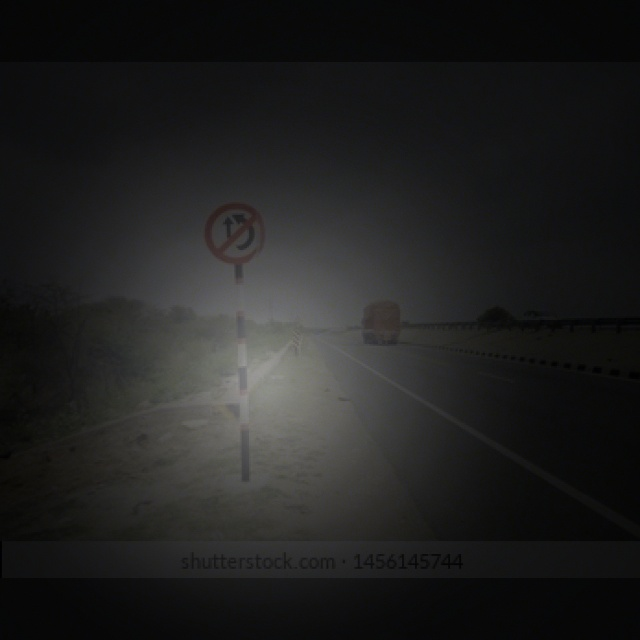Overtaking_Prohibited: (205, 204, 268, 268)
